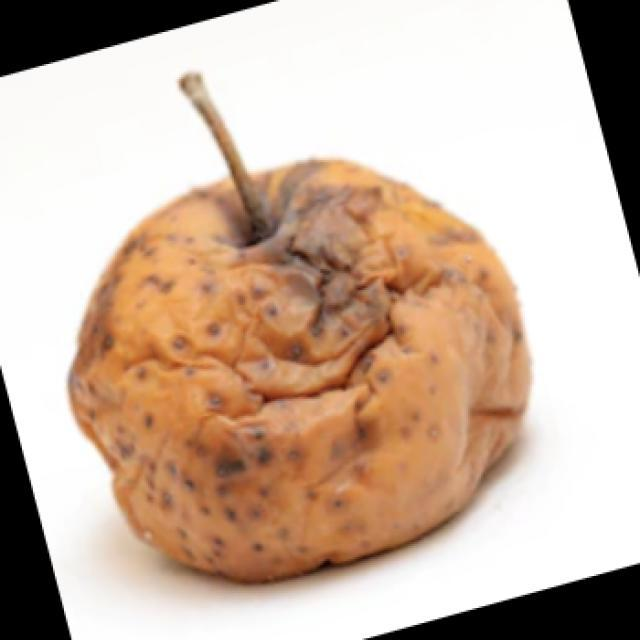Rotten: (85, 152, 542, 586)
